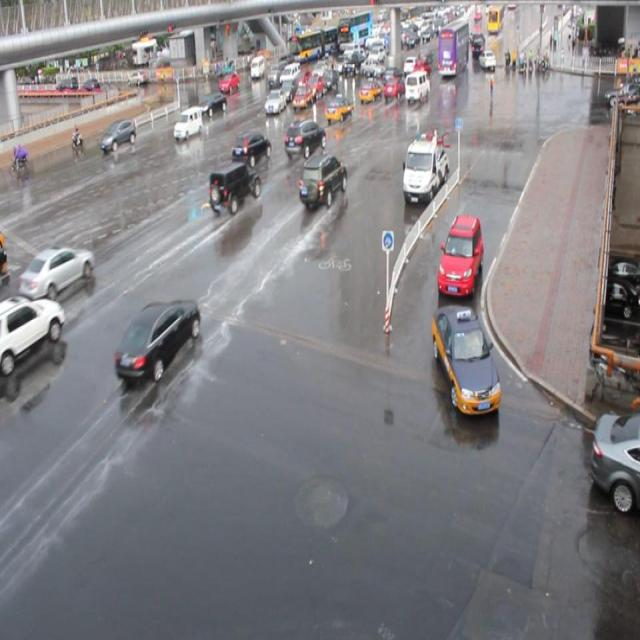bus: (401, 133, 447, 202)
car: (431, 303, 500, 414), (113, 297, 200, 383), (588, 410, 640, 515), (0, 297, 64, 362), (24, 245, 95, 300), (436, 213, 483, 295), (208, 161, 260, 215), (297, 152, 346, 208), (284, 117, 326, 158), (230, 129, 271, 167), (99, 118, 137, 152), (323, 93, 353, 123), (197, 91, 227, 116), (358, 78, 382, 101), (382, 76, 405, 99), (264, 90, 286, 114), (292, 84, 312, 110), (219, 71, 239, 93), (306, 74, 324, 98), (279, 78, 297, 101), (293, 69, 310, 91)
truck: (173, 105, 202, 138), (404, 70, 429, 102)
